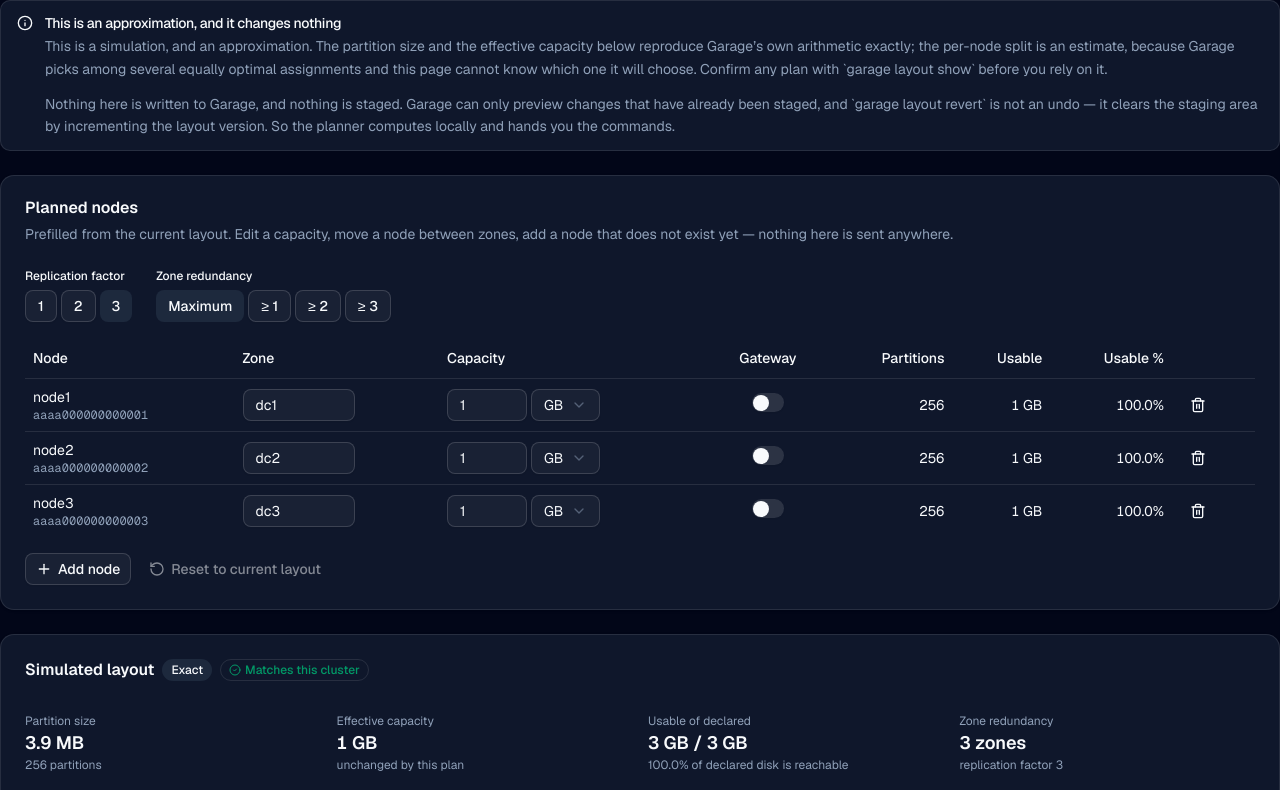
cluster layout planner › reproduces the documented zero-partition trap and gives the fix
Expected: the text "Planned nodes" is shown, x1=25 y1=197 x2=138 y2=218
Click the button "Add node". click: (78, 568)
box: x1=25 y1=552 x2=131 y2=584
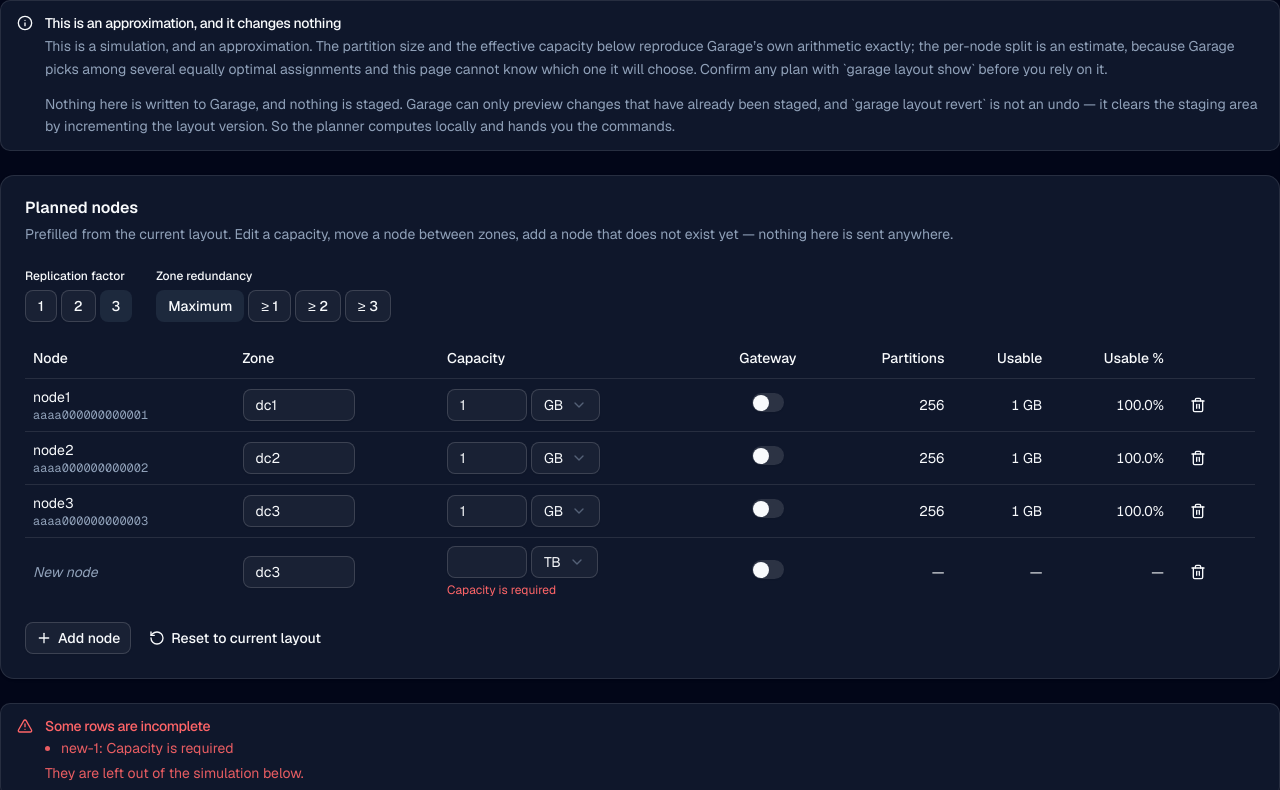
Replace the text in the field named "Zone for new-1" with "dc1". click: (299, 572)
box: x1=243 y1=556 x2=355 y2=588
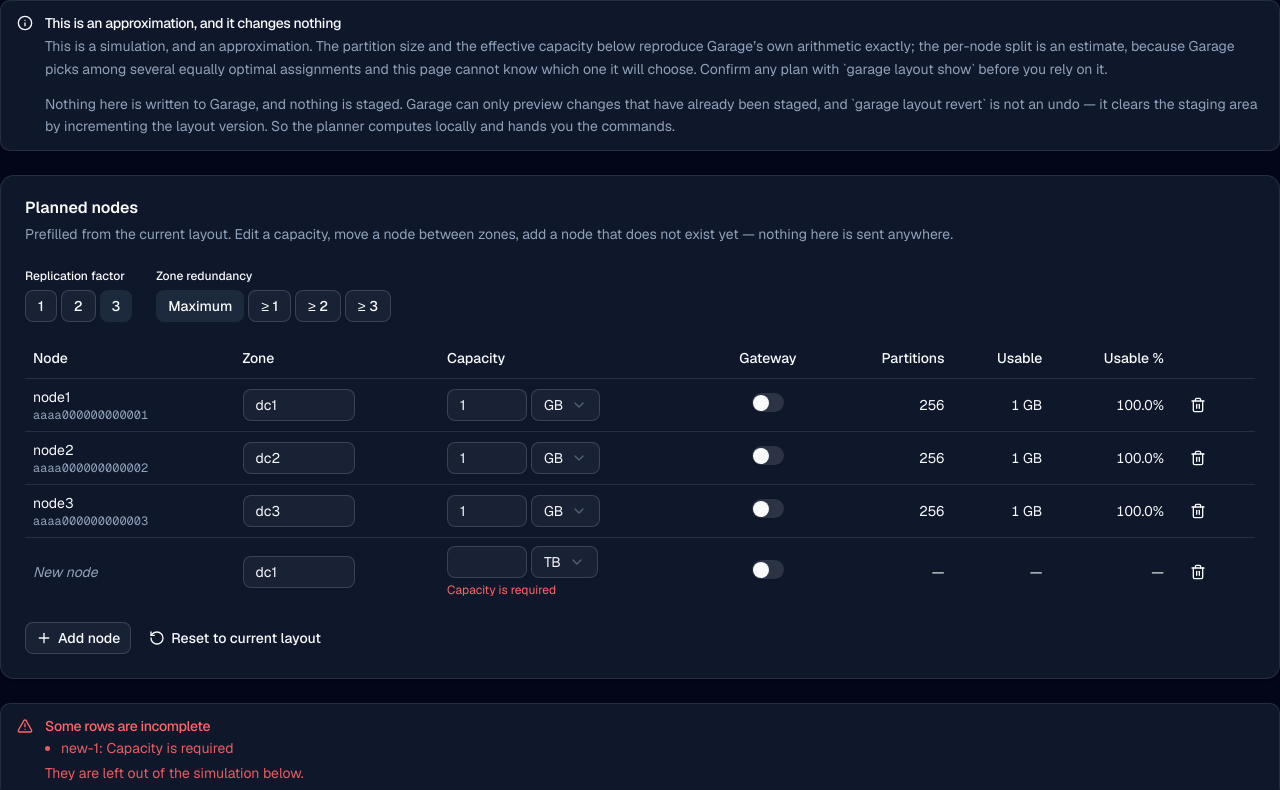
Type "1" into the field named "Capacity for new-1". click: (487, 562)
box: x1=447 y1=546 x2=527 y2=578
(page scrolled)
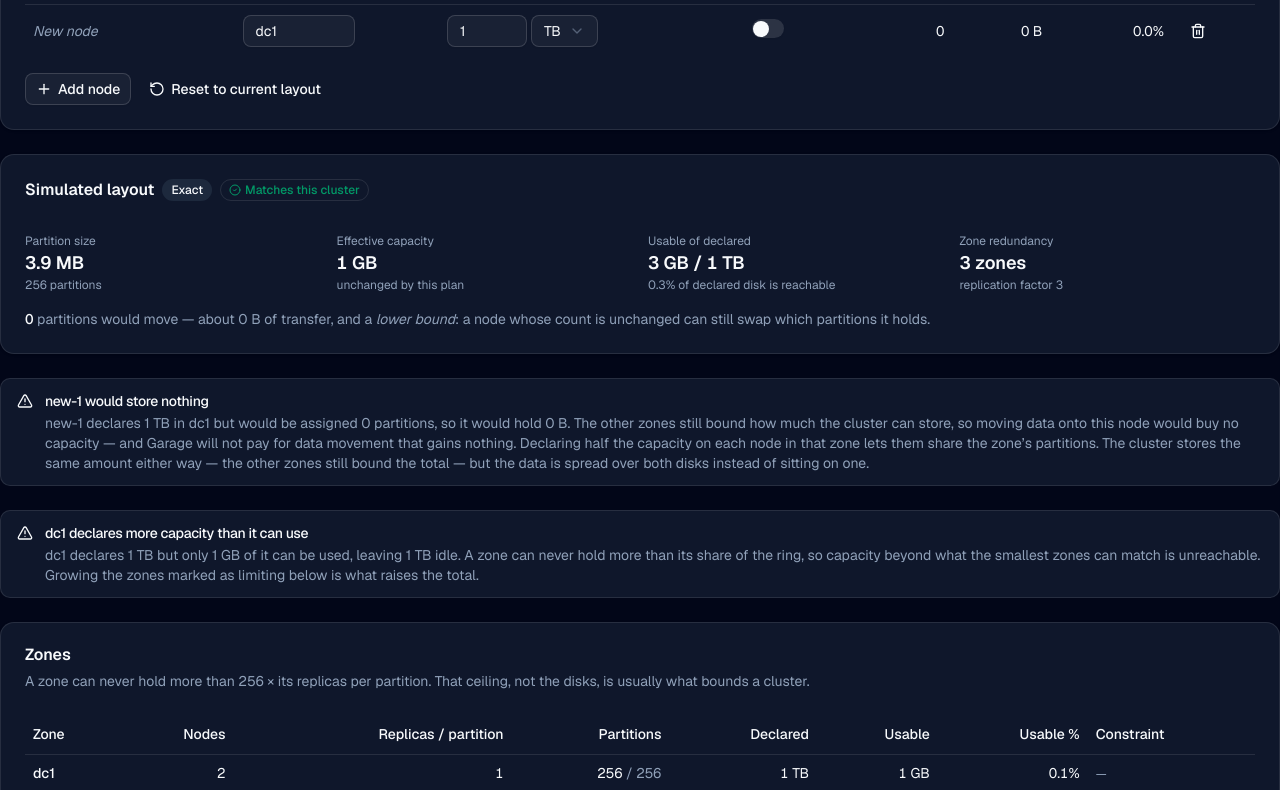
Expected: the text "new-1 would store nothing" is shown, x1=45 y1=392 x2=208 y2=410
